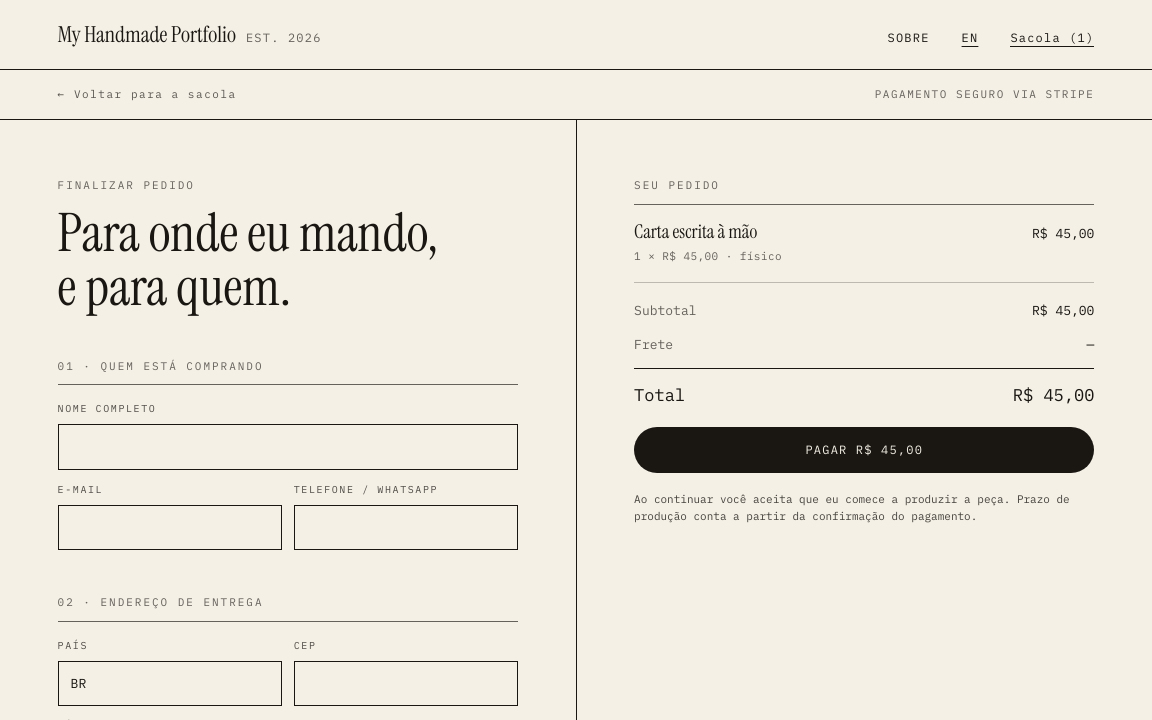
CheckoutRoute › starts on BR with both domestic options, and offers only the international one elsewhere
The width and height of the screenshot is (1152, 720).
Replace the text in the field labelled "País" with "fr" at (170, 684), box [58,661,282,706]
(page scrolled)
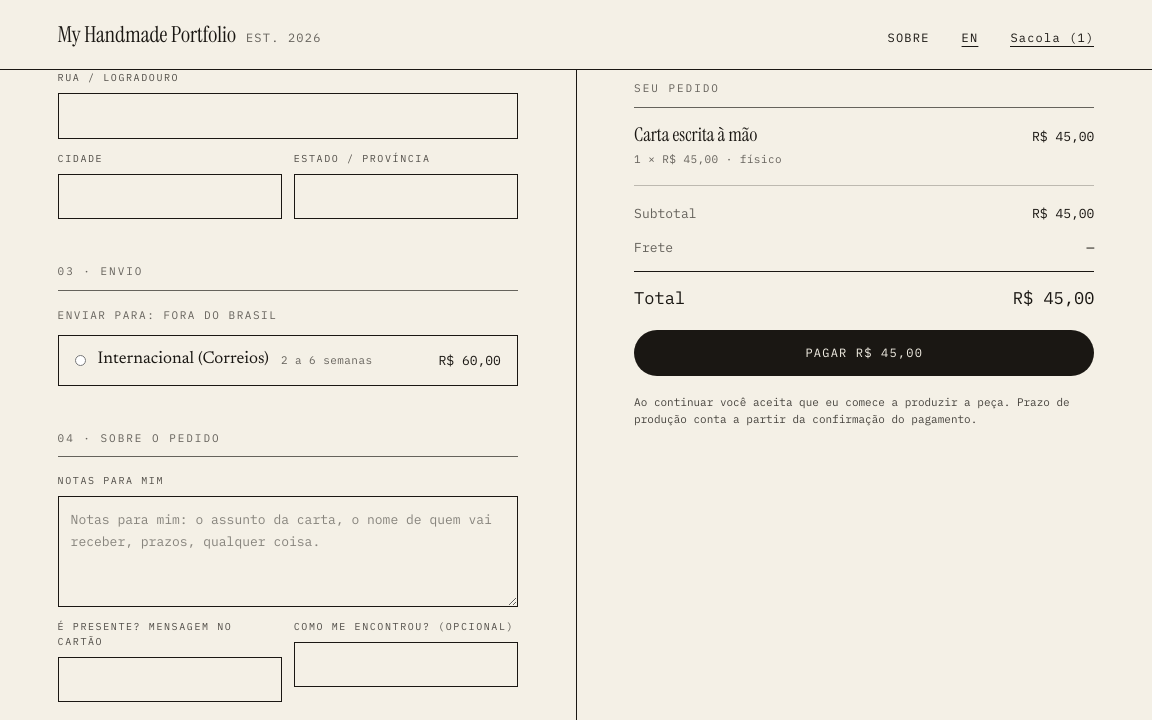
Result: the radio button labelled "Internacional (Correios) 2 a 6 semanas R$ 60,00" is shown at [75,355,86,366]
